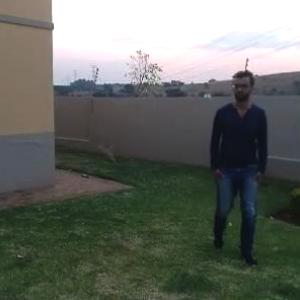follow: (203, 65, 256, 253)
